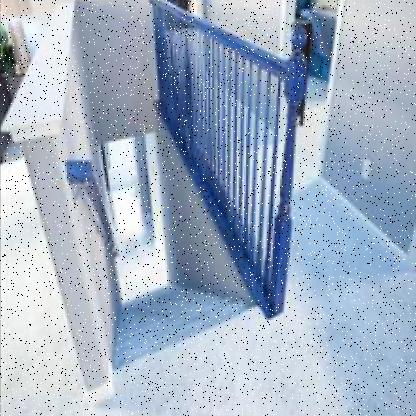stair_down: (99, 238, 261, 374)
